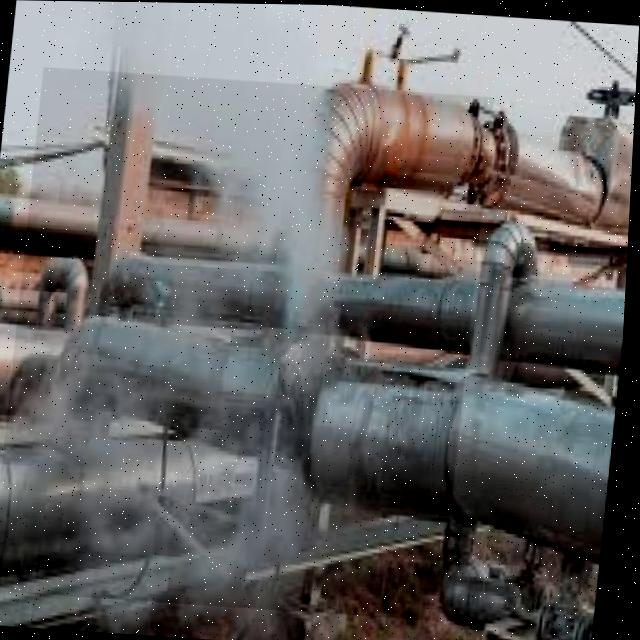corrosion: (0, 67, 494, 621)
